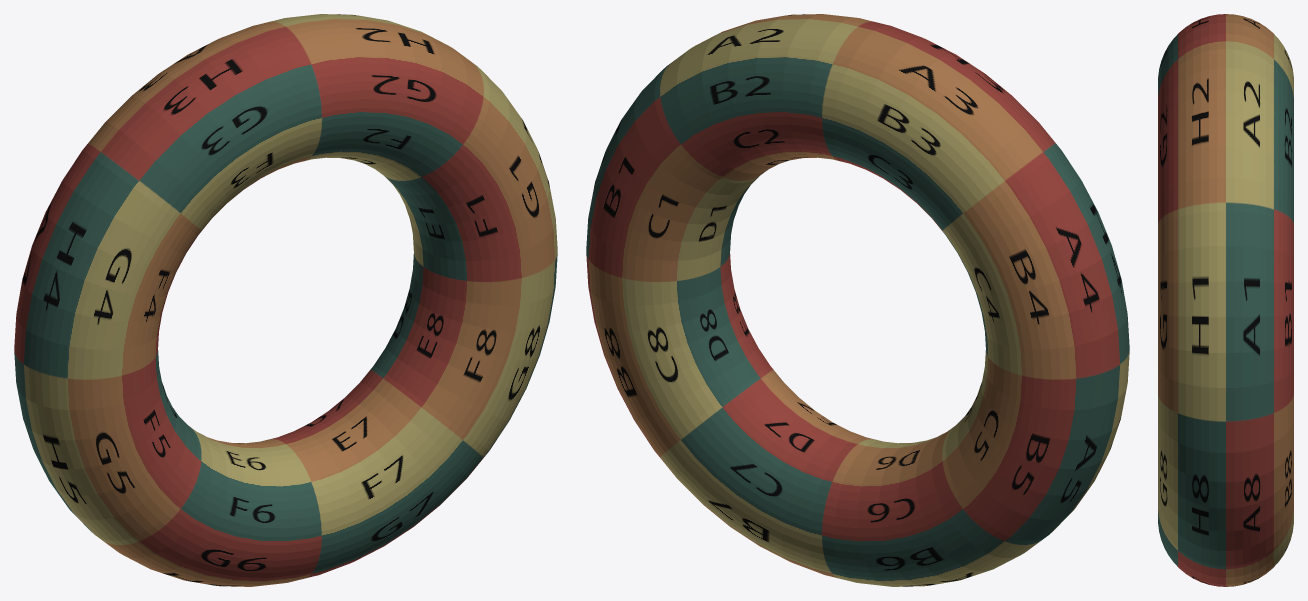
File: texture_torus_R19_r19.glb
3 renders of one model, left to right at view 1: azimuth 30°, elevation 25°; view 2: azimuth 150°, elevation 25°; view 3: azimuth 270°, elevation 25°, orthographic. The views are drawn at different scales.
Visible parts, largest first — view 1: world; view 2: world; view 3: world.
Part boxes in pixels (x1,y1,x2,y2): world: (14, 14, 557, 586); world: (586, 14, 1129, 586); world: (1158, 14, 1293, 586).
Bounding box in the file's own units: 29.73 × 29.67 × 7.05.
1 material, 1 textured.
